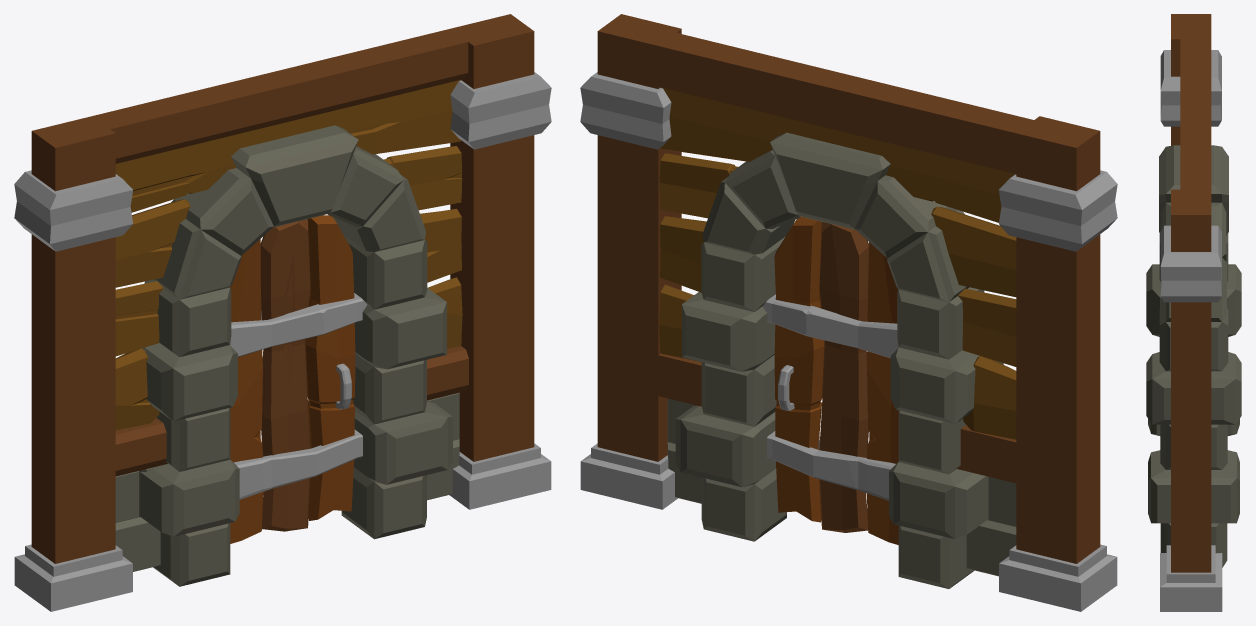
Rendered from WallDoor.fbx.
3 renders of one model, left to right at view 1: azimuth 30°, elevation 25°; view 2: azimuth 150°, elevation 25°; view 3: azimuth 270°, elevation 25°, orthographic. The views are drawn at different scales.
Parts seen in each view (by area): view 1: WallDoorConstruction., WallDoorFrame, WallDoorBackPanels, WallDoorMetalConstruction, WallDoorDoorPanels2, WallDoorDoorPanels, WallDoorDoorMetal, WallDoorBricks; view 2: WallDoorConstruction., WallDoorFrame, WallDoorBackPanels, WallDoorMetalConstruction, WallDoorDoorPanels2, WallDoorDoorPanels, WallDoorDoorMetal, WallDoorBricks; view 3: WallDoorConstruction., WallDoorFrame, WallDoorMetalConstruction.
Part boxes in pixels (left/top/right/bottom): WallDoorConstruction.: left=31, top=14, right=534, bottom=563; WallDoorFrame: left=125, top=125, right=452, bottom=586; WallDoorBackPanels: left=115, top=79, right=462, bottom=430; WallDoorMetalConstruction: left=14, top=72, right=551, bottom=611; WallDoorDoorPanels2: left=230, top=215, right=355, bottom=543; WallDoorDoorPanels: left=260, top=219, right=310, bottom=531; WallDoorDoorMetal: left=230, top=293, right=367, bottom=499; WallDoorBricks: left=115, top=392, right=459, bottom=571; WallDoorConstruction.: left=597, top=14, right=1100, bottom=563; WallDoorFrame: left=675, top=132, right=1003, bottom=588; WallDoorBackPanels: left=659, top=87, right=1016, bottom=439; WallDoorMetalConstruction: left=580, top=72, right=1117, bottom=611; WallDoorDoorPanels2: left=774, top=216, right=898, bottom=544; WallDoorDoorPanels: left=819, top=222, right=868, bottom=532; WallDoorDoorMetal: left=762, top=294, right=898, bottom=500; WallDoorBricks: left=667, top=398, right=1016, bottom=576; WallDoorConstruction.: left=1171, top=14, right=1211, bottom=572; WallDoorFrame: left=1146, top=145, right=1241, bottom=567; WallDoorMetalConstruction: left=1160, top=50, right=1222, bottom=611.
Size of the model in its own units: 460 by 408 by 88.02.
